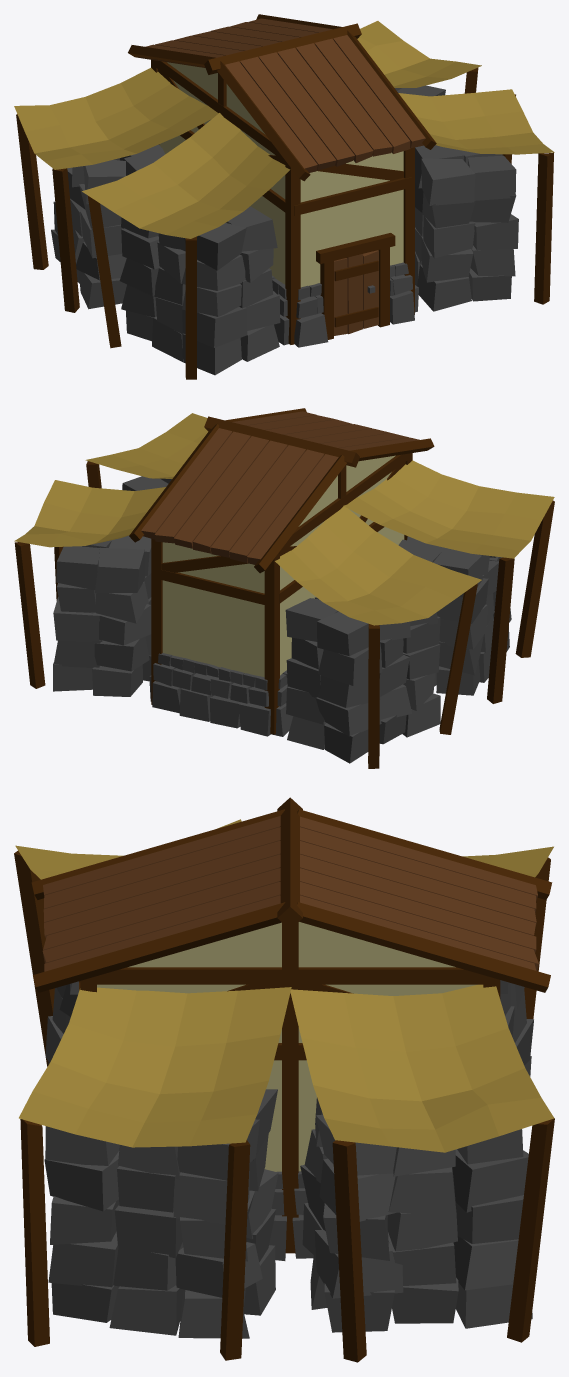
File: StoneStorage.fbx
3 renders of one model, top to bottom at view 1: azimuth 30°, elevation 25°; view 2: azimuth 150°, elevation 25°; view 3: azimuth 270°, elevation 25°, orthographic. The views are drawn at different scales.
Visible parts, largest first — view 1: Building.006, Stone 100%, Stone 40%, Stone 60%, Stone 20%, Stone 80%; view 2: Building.006, Stone 100%, Stone 60%, Stone 40%, Stone 20%, Stone 80%; view 3: Building.006, Stone 80%, Stone 40%, Stone 60%, Stone 20%, Stone 100%.
Part boxes in pixels (x1,y1,x2,y2): Building.006: (14,14,554,379); Stone 100%: (72,85,516,270); Stone 40%: (53,201,515,347); Stone 60%: (70,198,518,316); Stone 20%: (51,229,511,375); Stone 80%: (52,167,516,290); Building.006: (14,408,554,768); Stone 100%: (56,476,495,656); Stone 60%: (53,591,496,707); Stone 40%: (54,608,511,736); Stone 20%: (53,626,509,763); Stone 80%: (56,556,502,685); Building.006: (14,797,554,1362); Stone 80%: (44,982,528,1223); Stone 40%: (45,1016,533,1298); Stone 60%: (50,988,526,1261); Stone 20%: (48,1056,532,1338); Stone 100%: (45,980,523,1180).
Bounding box in the file's own units: 1462 × 779 × 1055.
